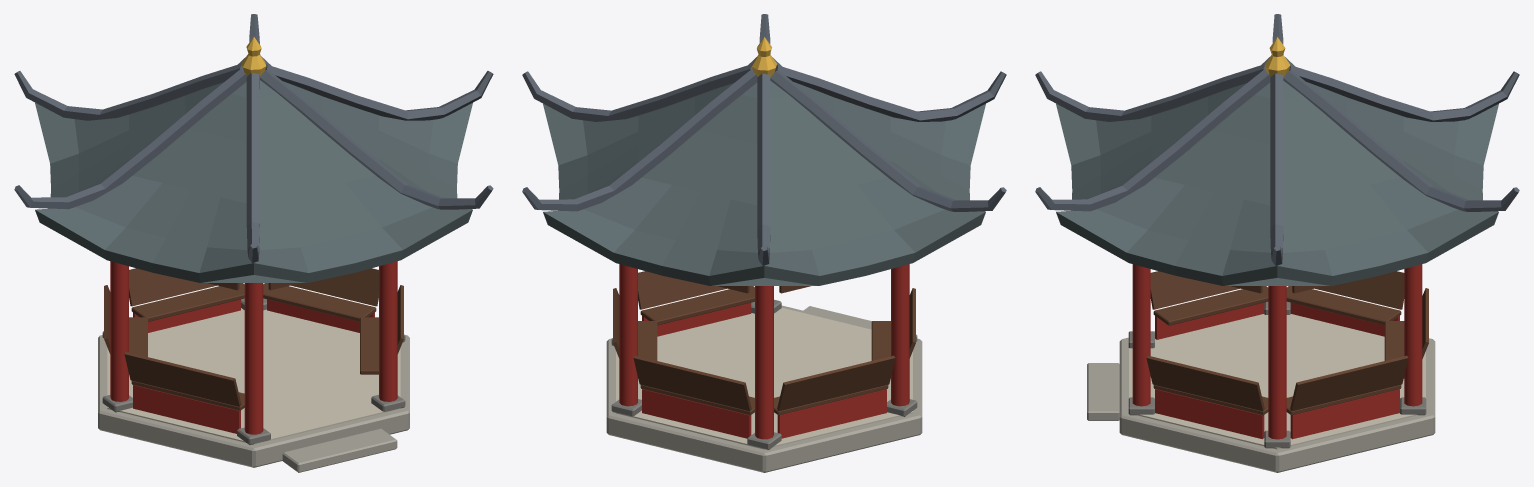
Rendered from pavilion.glb.
3 renders of one model, left to right at view 1: azimuth 30°, elevation 25°; view 2: azimuth 150°, elevation 25°; view 3: azimuth 270°, elevation 25°, orthographic.
Visible parts, largest first — view 1: pavilion; view 2: pavilion; view 3: pavilion.
Boxes of the visible parts, x1=… form: pavilion: x1=14, y1=14, x2=493, y2=472; pavilion: x1=522, y1=14, x2=1006, y2=472; pavilion: x1=1035, y1=14, x2=1519, y2=472.
Size of the model in its own units: 7.66 by 5.45 by 6.65.
